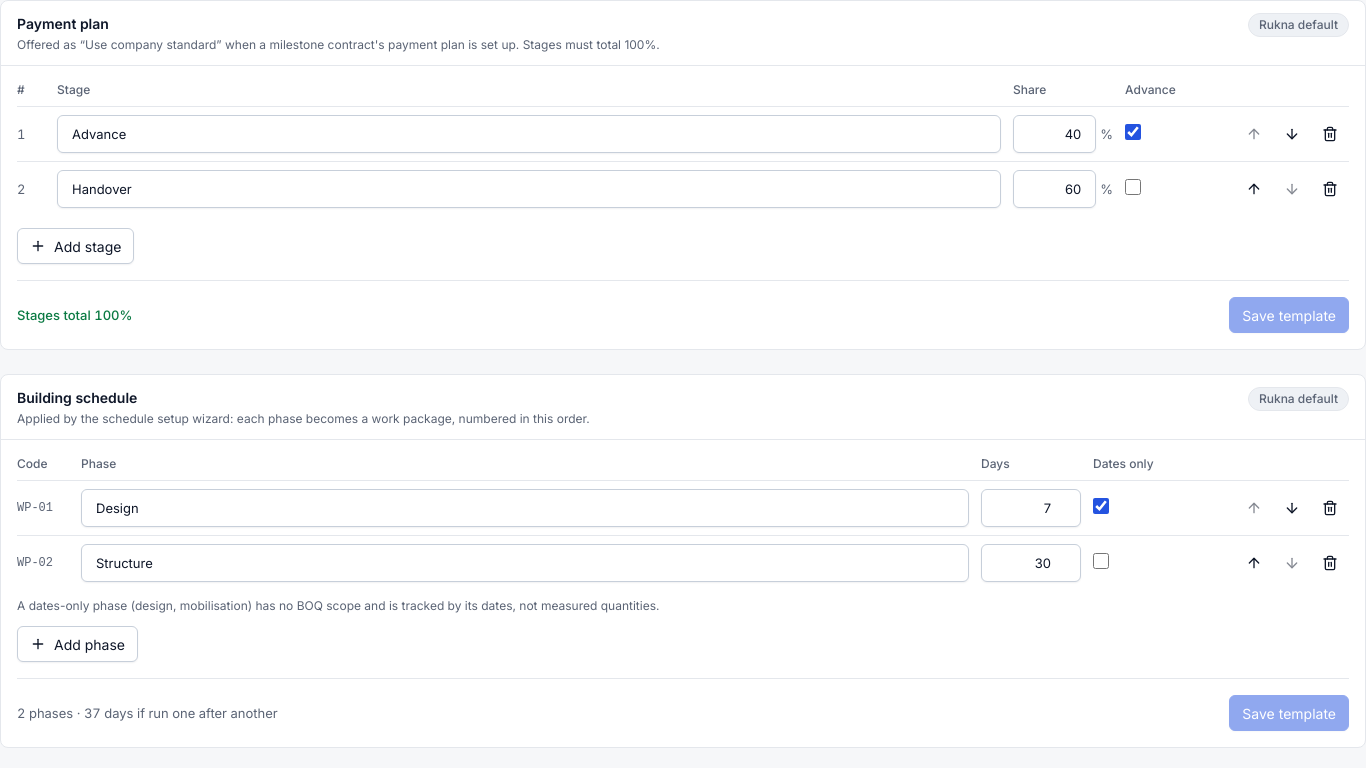
Test: CompanyTemplatesManager (Step 1b, ADR-047) › keeps a single advance: ticking one stage clears the other
Click the checkbox named "Handover is the advance": (1133, 186) [1125, 178, 1141, 194]
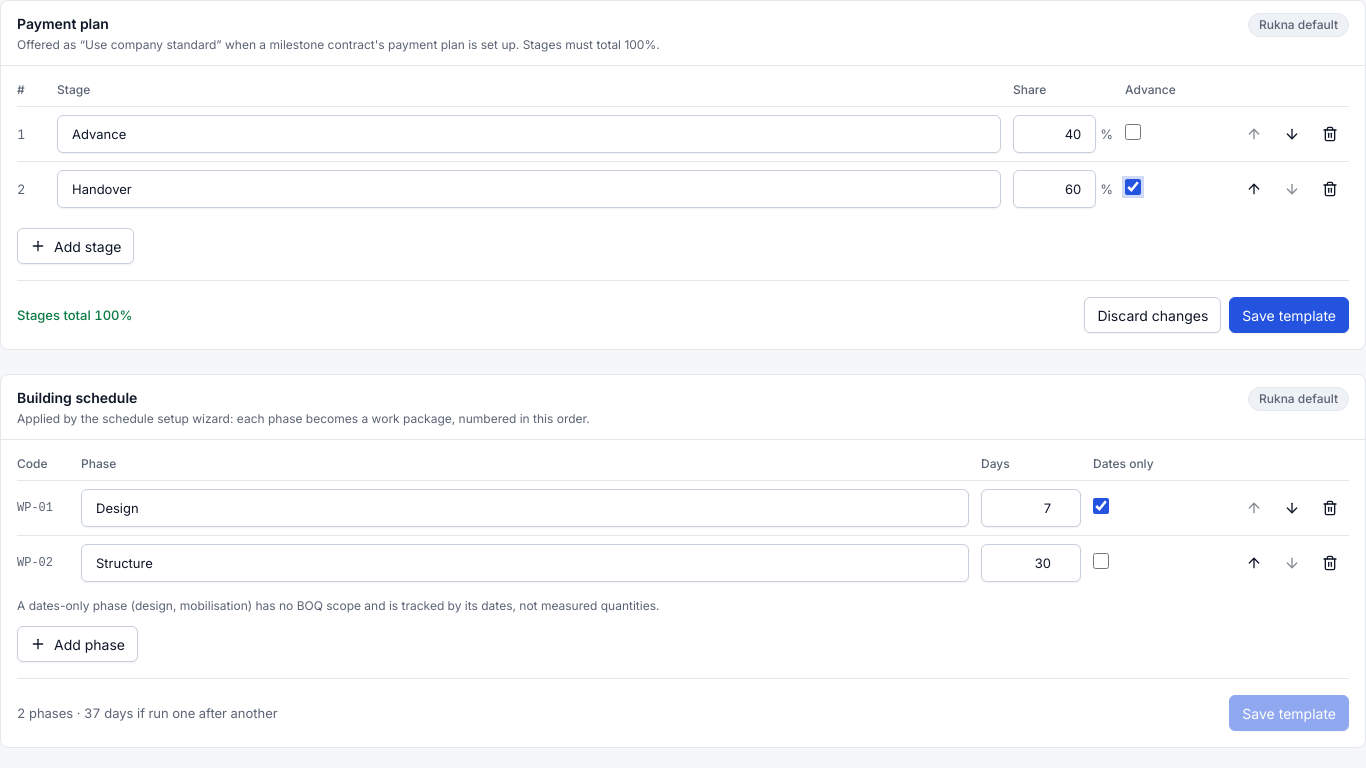
Expected: the checkbox named "Handover is the advance" is checked, [1125, 178, 1141, 194]
Expected: the checkbox named "Advance is the advance" is not checked, [1125, 124, 1141, 140]
